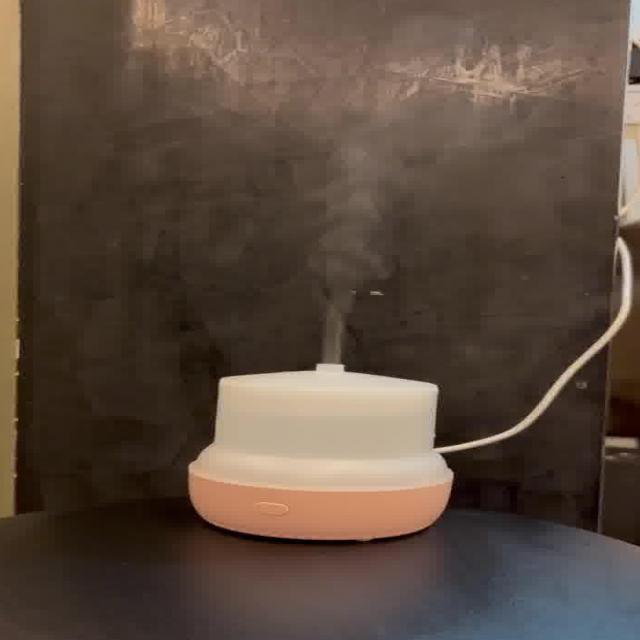fire: (296, 95, 481, 360)
